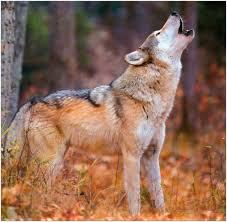Lobo: (6, 10, 203, 167)
